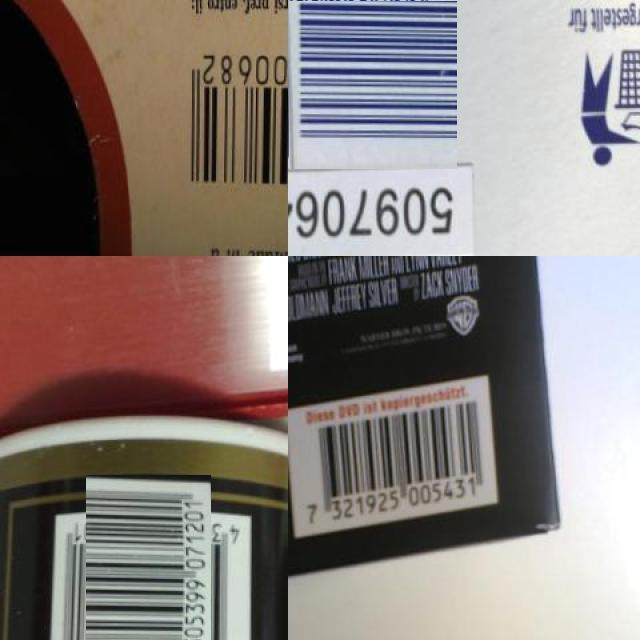Barcode: (288, 377, 499, 543), (288, 0, 458, 169), (66, 495, 231, 640), (168, 34, 288, 218)
